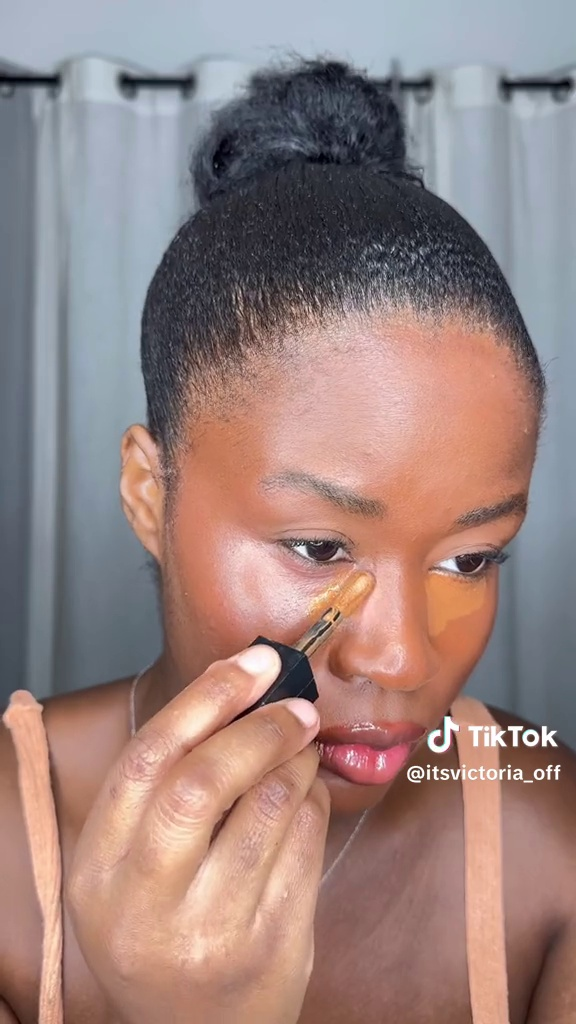train' :'yolo_data/train/images',: (198, 563, 381, 744)
